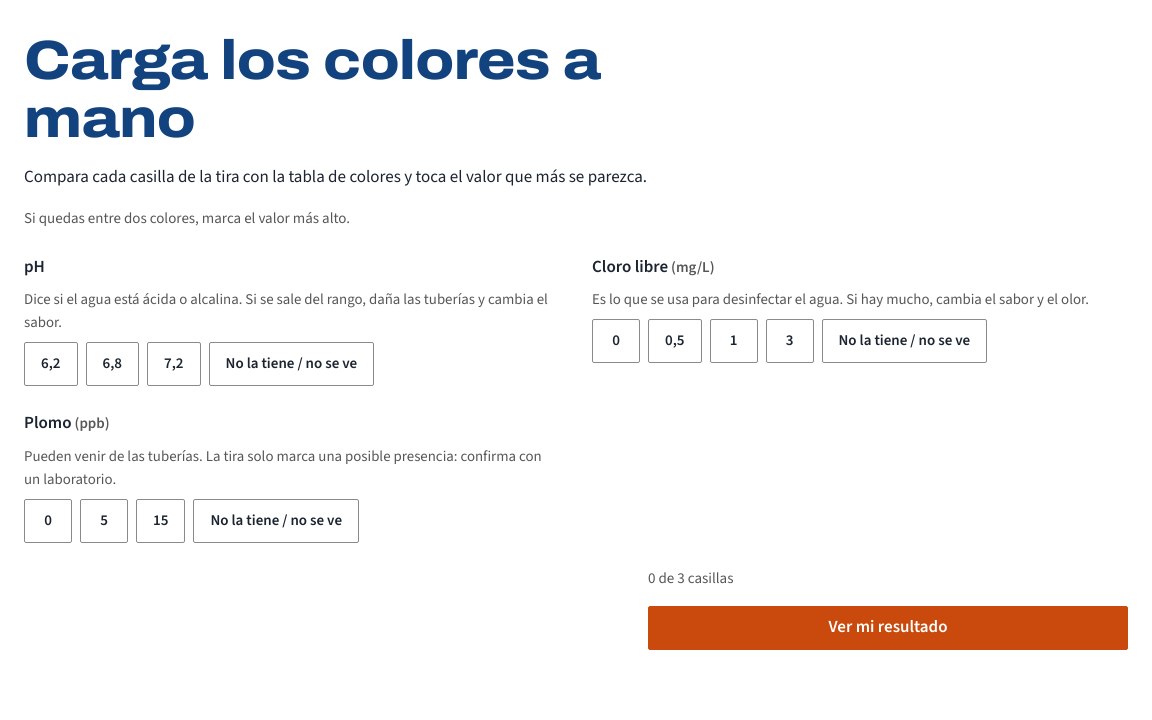
Test case: /medir/manual › no envía si no se marcó ninguna casilla
This screenshot has width=1152, height=720.
Click the button "Ver mi resultado" at (888, 628), box [648,606,1128,650]
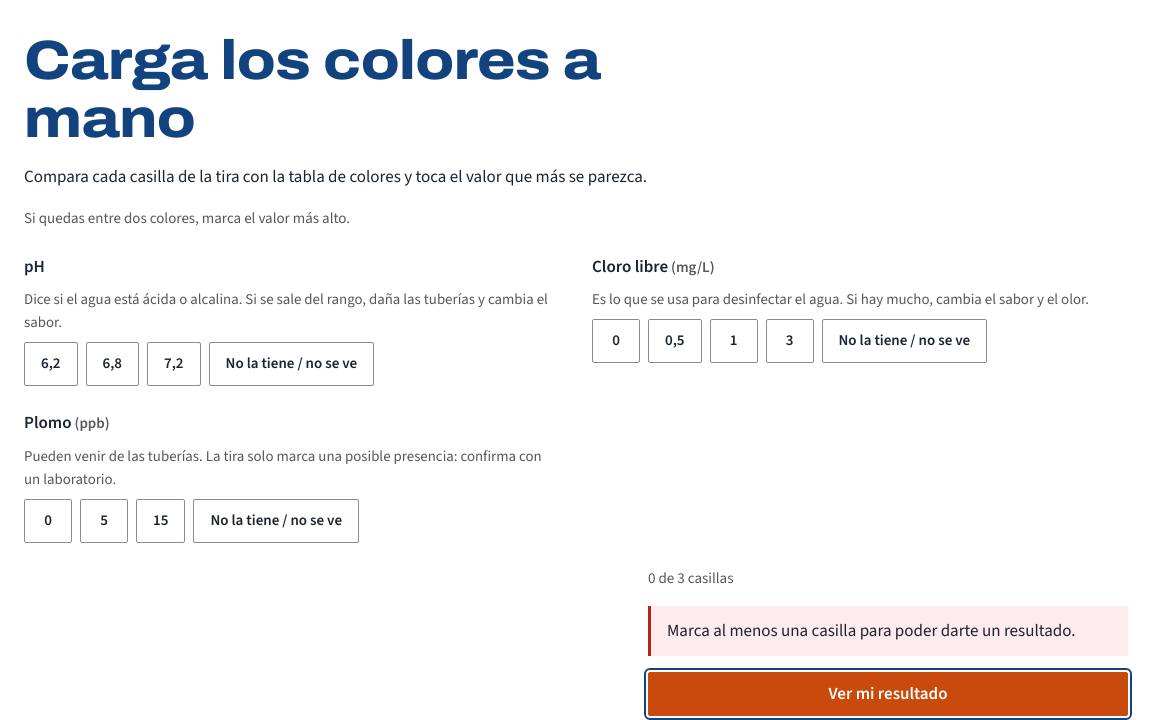
Now the message shows "Marca al menos una casilla", box [667,619,1075,643]
